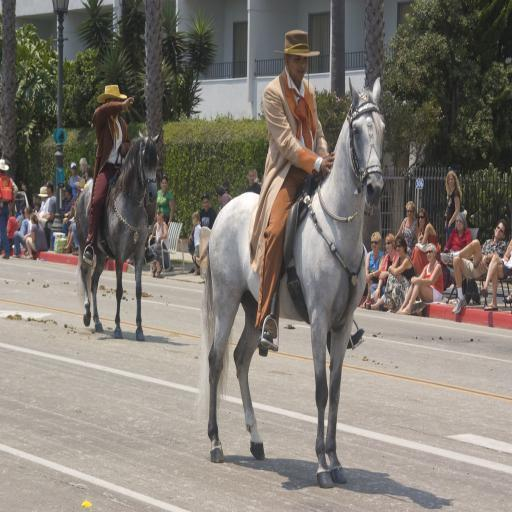horse: (200, 76, 388, 488), (73, 130, 162, 340)
